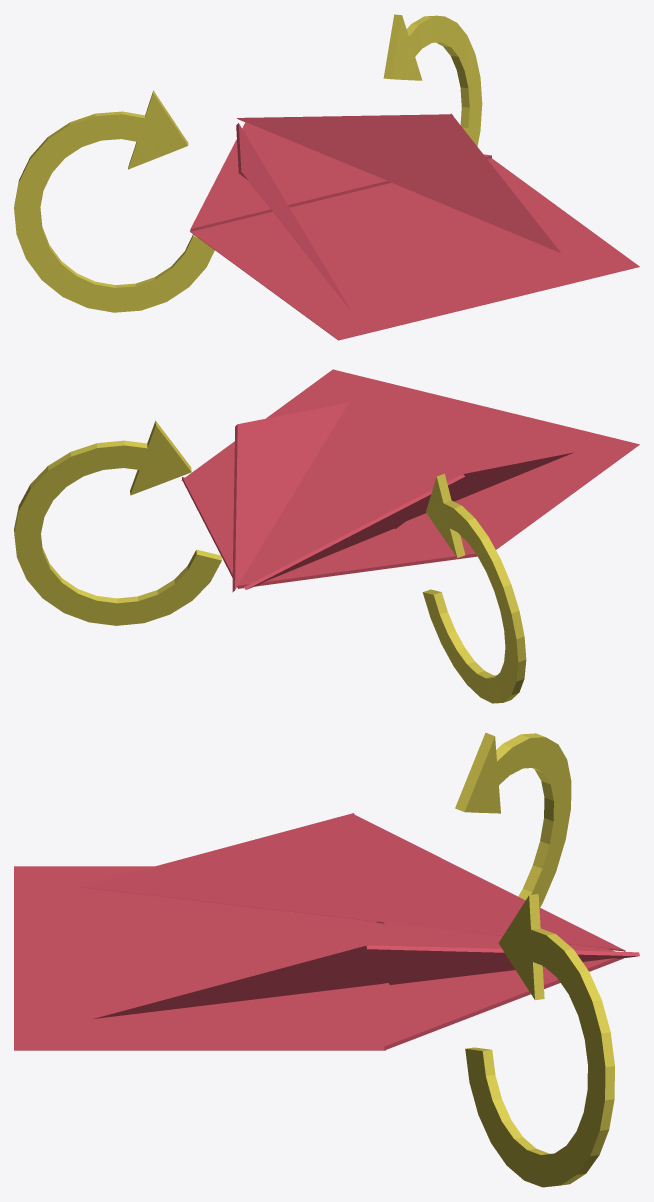
The model's file is paperairplane4.glb.
3 views of the same model, one above another, from view 1: azimuth 30°, elevation 25°; view 2: azimuth 150°, elevation 25°; view 3: azimuth 270°, elevation 25° (orthographic). The views are drawn at different scales.
Visible parts, largest first — view 1: Mesh_Mesh_head_geo.001_lambert2SG.001; view 2: Mesh_Mesh_head_geo.001_lambert2SG.001; view 3: Mesh_Mesh_head_geo.001_lambert2SG.001.
Part boxes in pixels (box(x1,y1,x2,y2)): Mesh_Mesh_head_geo.001_lambert2SG.001: box(14, 14, 639, 340); Mesh_Mesh_head_geo.001_lambert2SG.001: box(14, 369, 639, 703); Mesh_Mesh_head_geo.001_lambert2SG.001: box(14, 732, 639, 1187).
Bounding box in the file's own units: 16.05 × 6.63 × 14.37.
